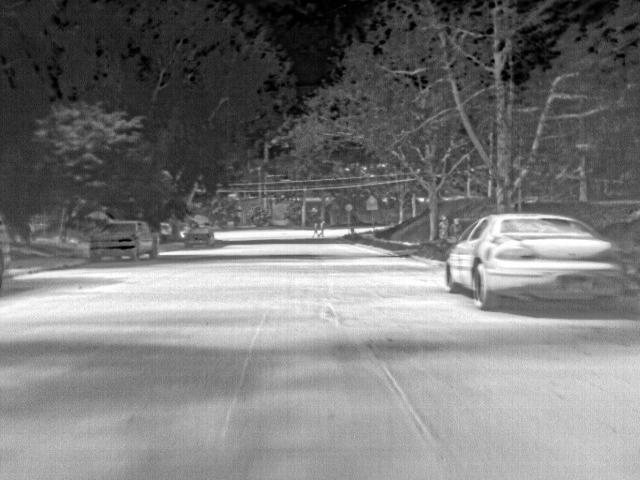car: (443, 211, 625, 313), (89, 218, 160, 260), (182, 224, 215, 248)
person: (438, 214, 450, 242), (450, 216, 463, 238), (310, 222, 320, 234), (318, 220, 326, 234)
